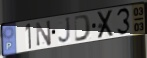1: (25, 22, 33, 50)
3: (115, 7, 132, 36)
D: (74, 14, 93, 43)
J: (58, 16, 72, 45)
N: (35, 19, 53, 48)
X: (97, 8, 115, 40)
